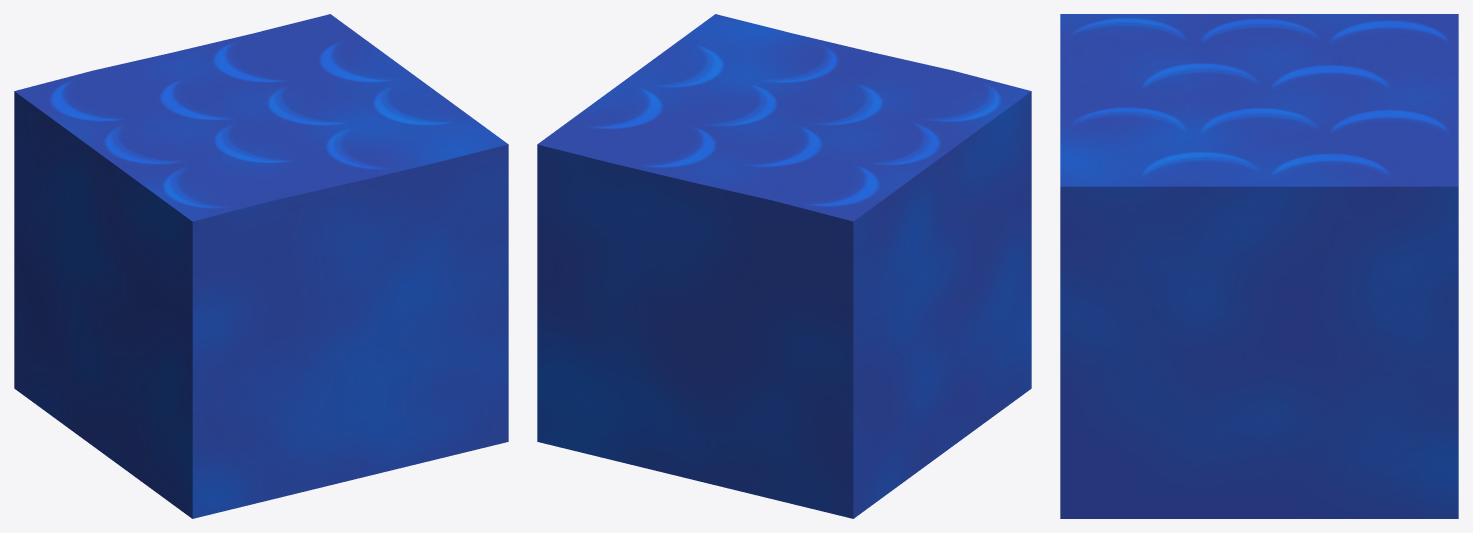
Rendered from 파도블럭.FBX.
The picture shows the model from 3 angles, left to right: view 1: azimuth 30°, elevation 25°; view 2: azimuth 150°, elevation 25°; view 3: azimuth 270°, elevation 25°; orthographic projection. The views are drawn at different scales.
Visible parts, largest first — view 1: Box001; view 2: Box001; view 3: Box001.
Boxes of the visible parts, left/top/right/bottom form: Box001: left=14, top=14, right=508, bottom=518; Box001: left=537, top=14, right=1031, bottom=518; Box001: left=1060, top=14, right=1458, bottom=518.
Bounding box in the file's own units: 39.66 × 35.8 × 38.72.
